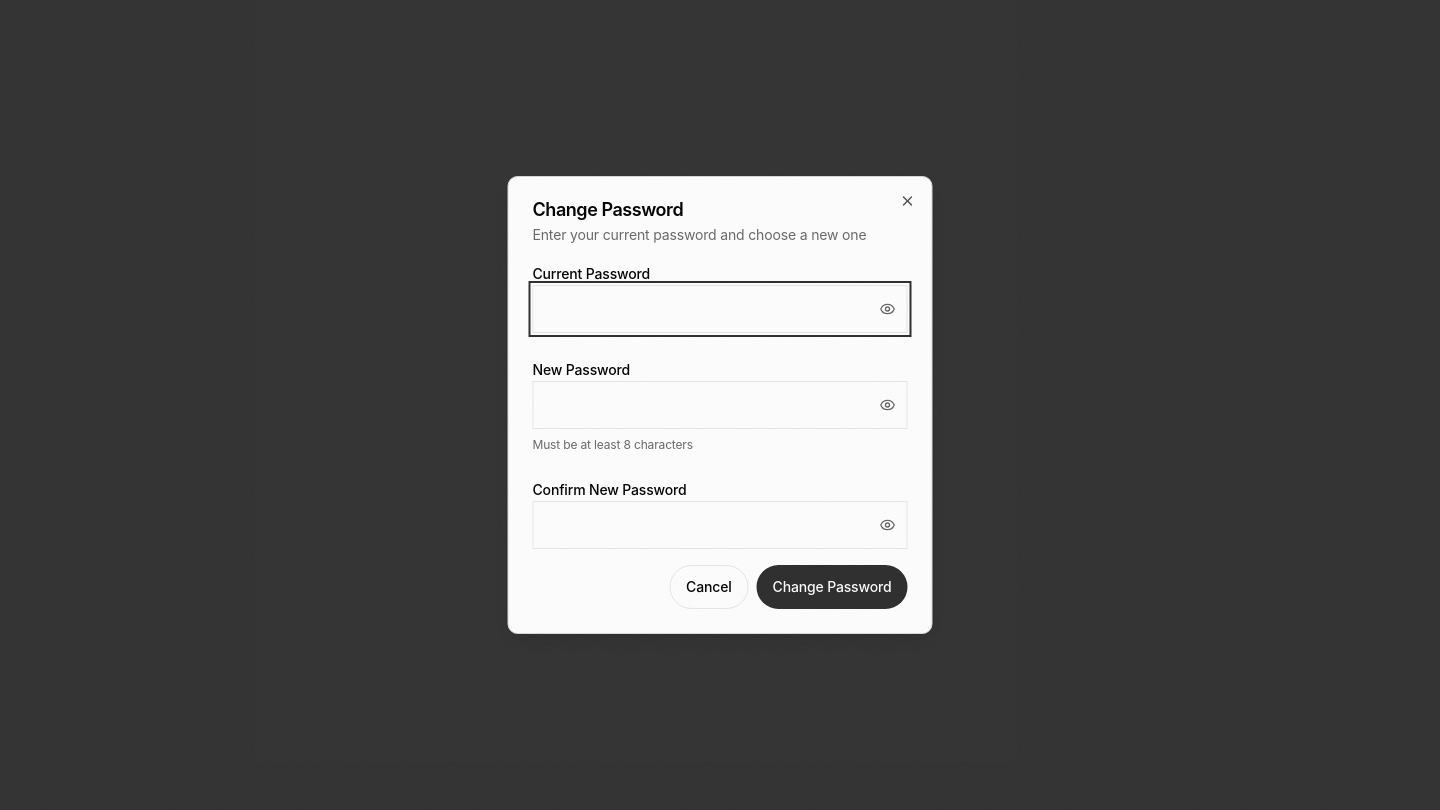
it: ChangePasswordModal › a wrong current password is refused with a visible error, not swallowed
The width and height of the screenshot is (1440, 810).
Step 1. Type "old-pass-123" into the password field labelled "Current Password" → (720, 309), box x1=532 y1=285 x2=908 y2=333
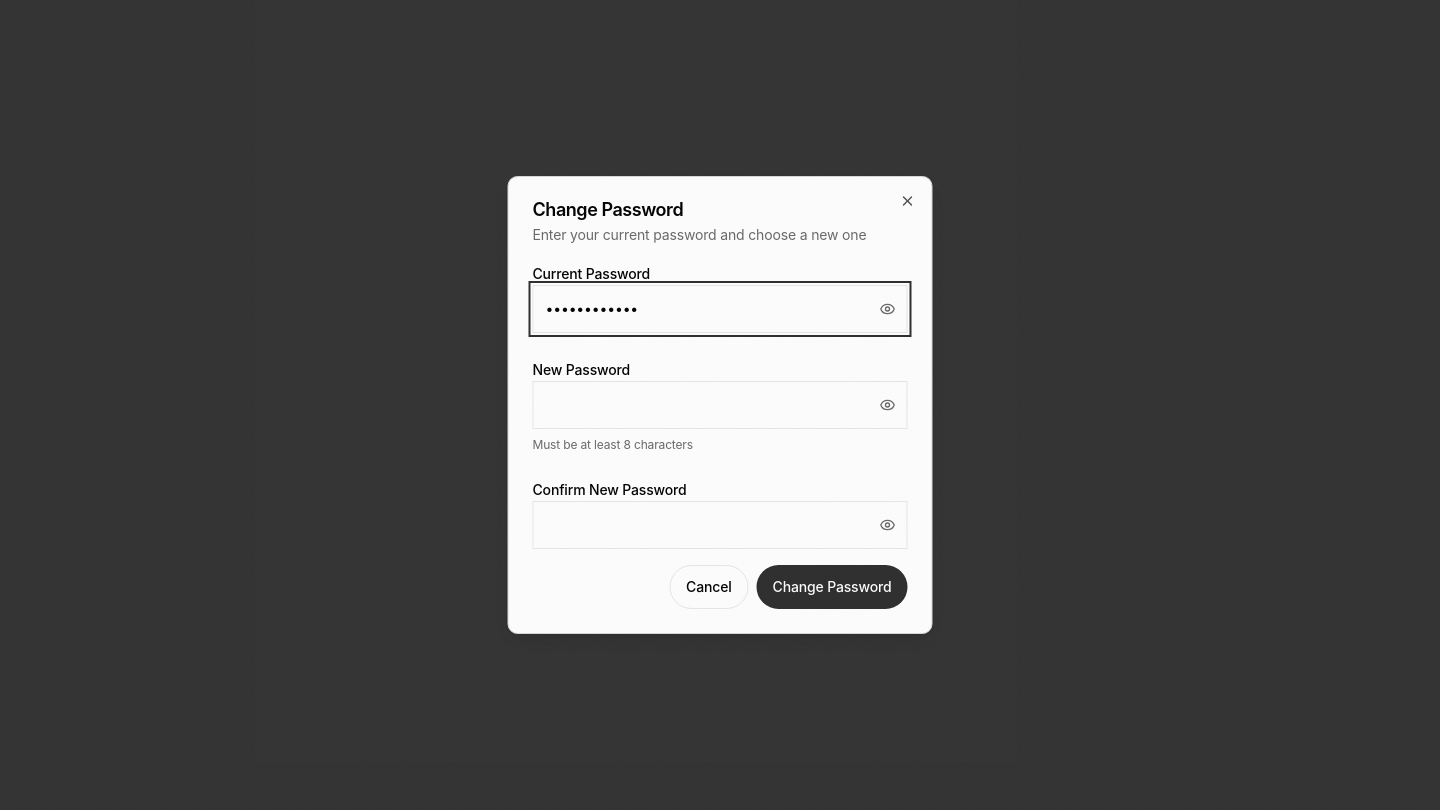
Step 2. Type "new-pass-456" into the password field labelled "New Password" → (720, 405), box x1=532 y1=381 x2=908 y2=429
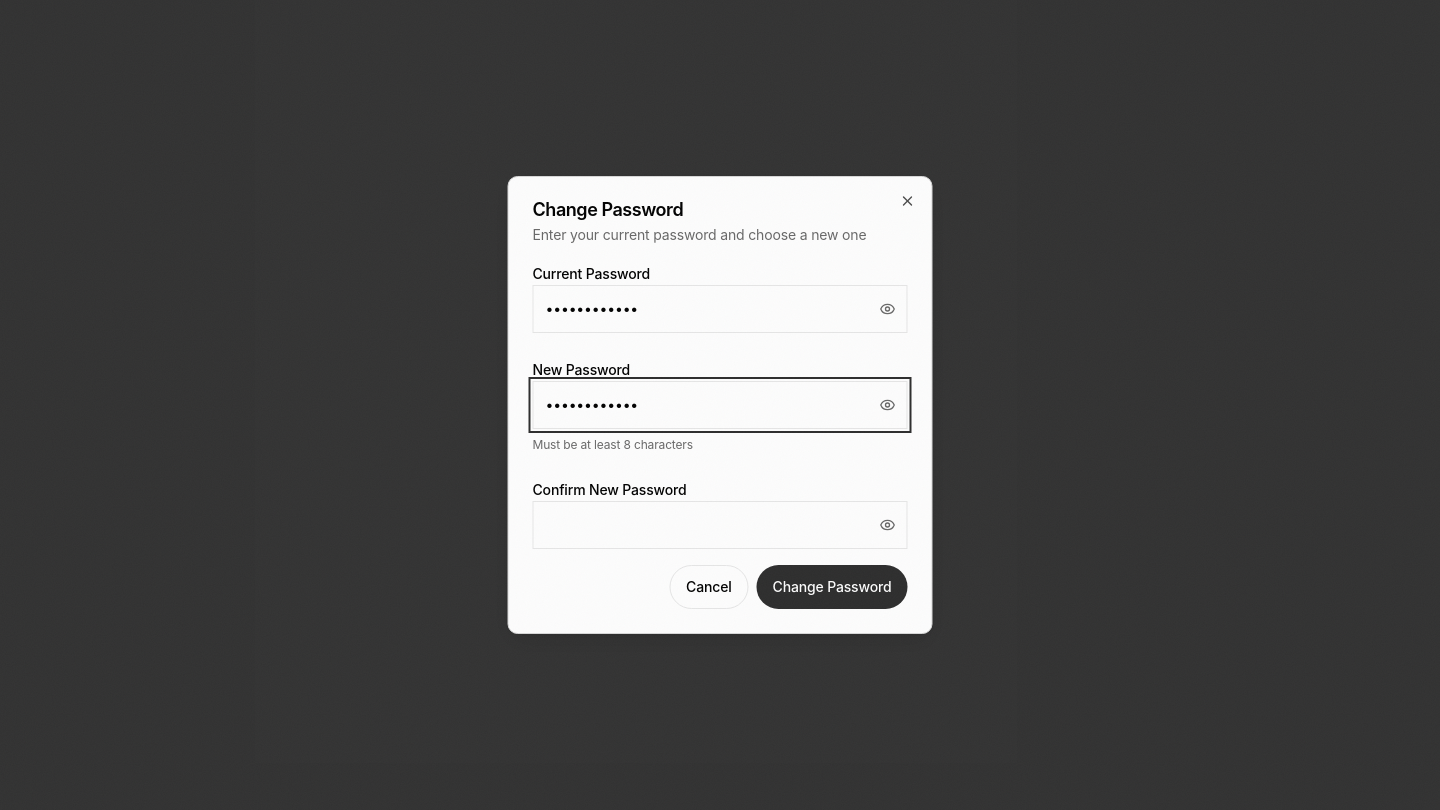
Step 3. Type "new-pass-456" into the password field labelled "Confirm New Password" → (720, 525), box x1=532 y1=501 x2=908 y2=549
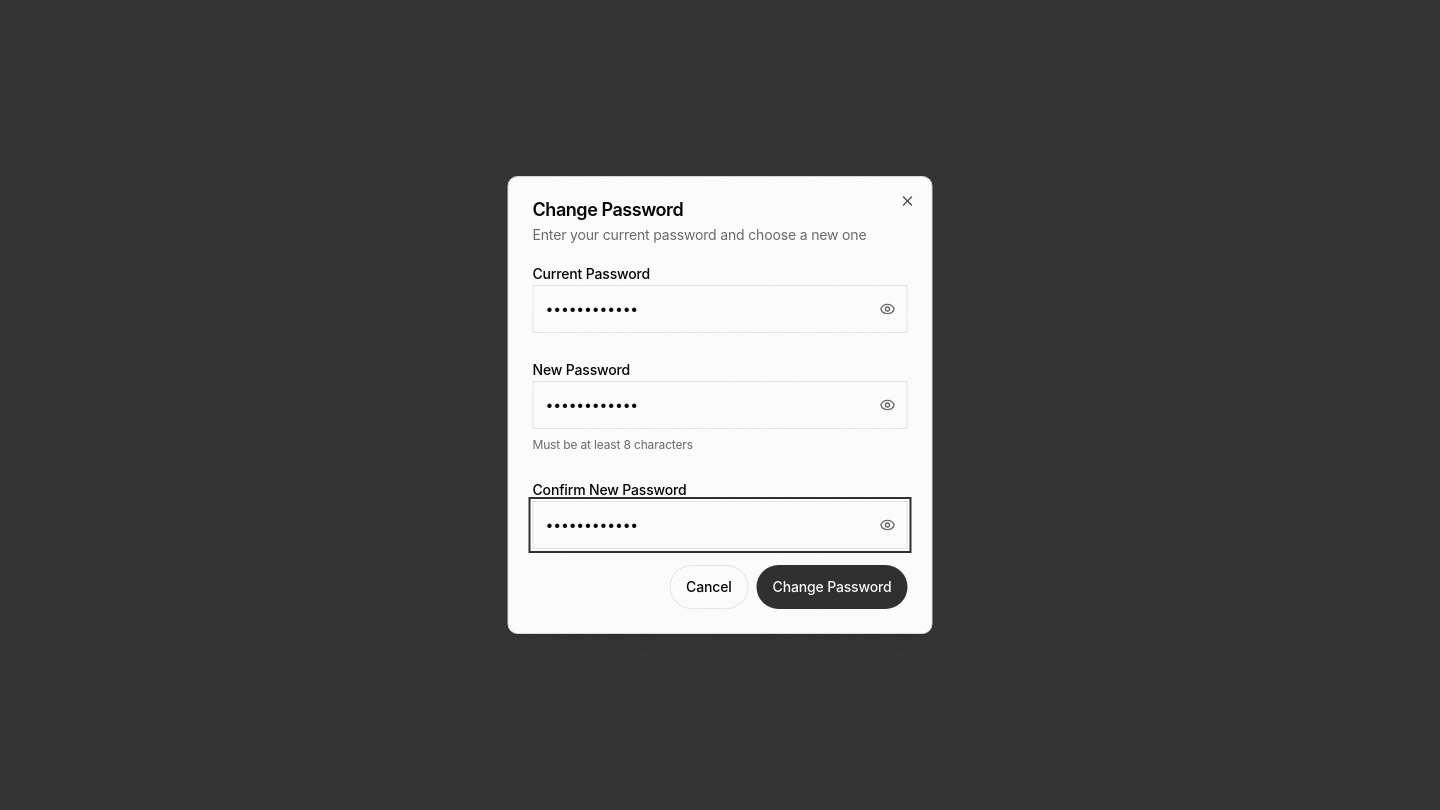
Step 4. Click the button "Change Password" → (832, 587), box x1=757 y1=565 x2=908 y2=609
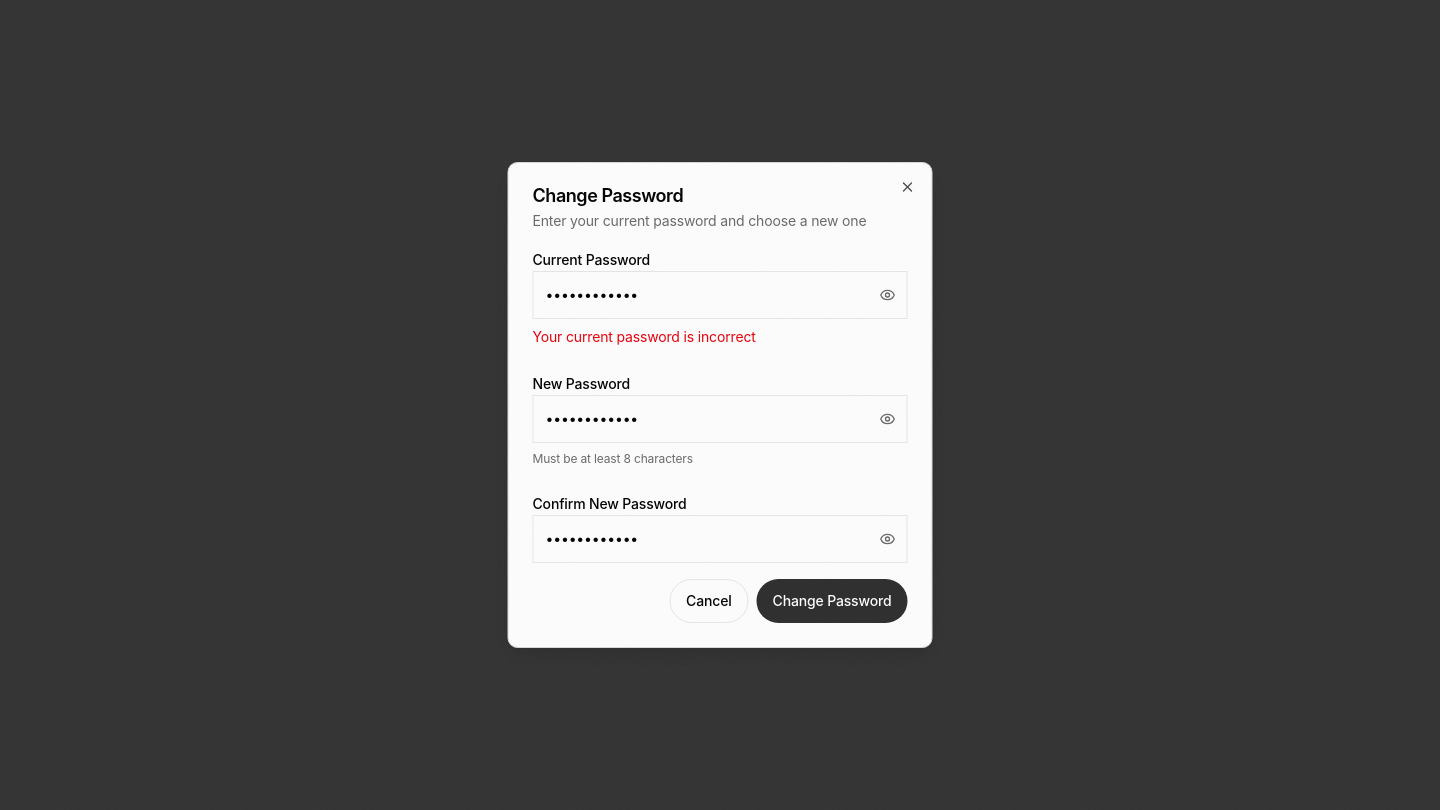
Result: the text "Your current password is incorrect" is shown at x1=532 y1=328 x2=756 y2=345
